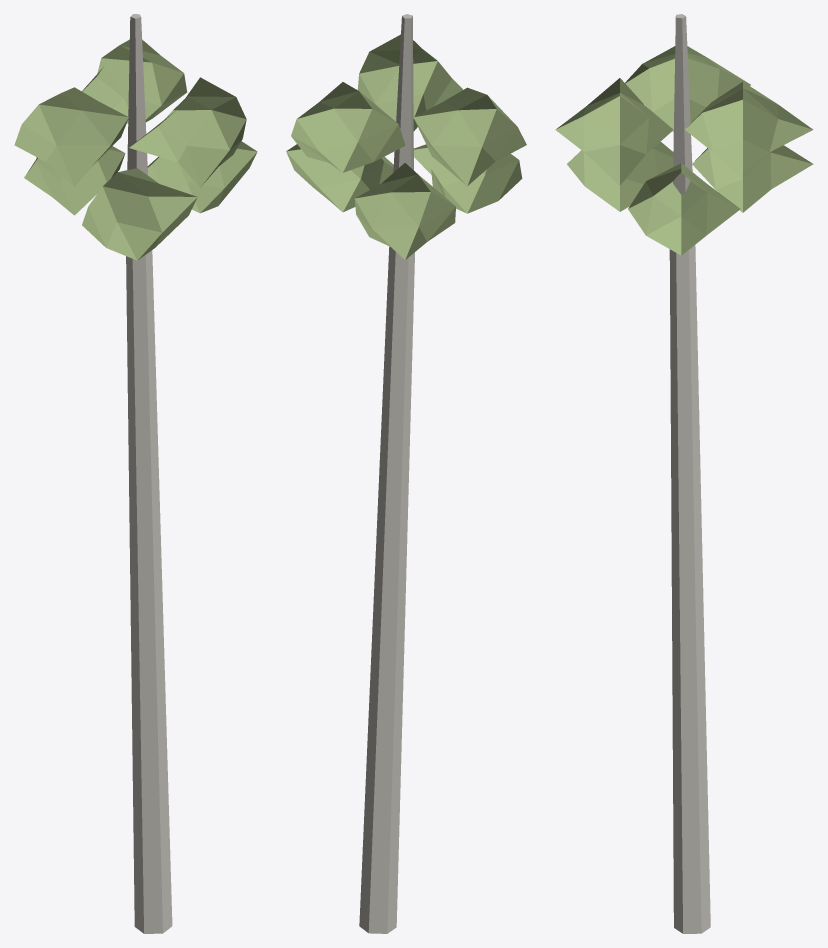
Rendered from birch_v05.glb.
3 views of the same model, side by side, from view 1: azimuth 30°, elevation 25°; view 2: azimuth 150°, elevation 25°; view 3: azimuth 270°, elevation 25° (orthographic). The views are drawn at different scales.
Parts seen in each view (by area): view 1: lod0; view 2: lod0; view 3: lod0.
Boxes of the visible parts, x1,y1,x2,y2 form: lod0: (14, 14, 257, 933); lod0: (286, 14, 526, 933); lod0: (555, 14, 813, 933).
Size of what is drawn, in the model's own units: 1.94 by 7.01 by 1.82.
